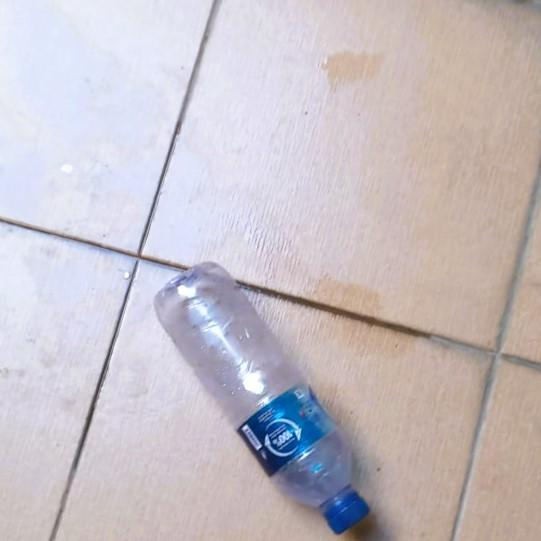Plastik: (154, 261, 370, 536)
